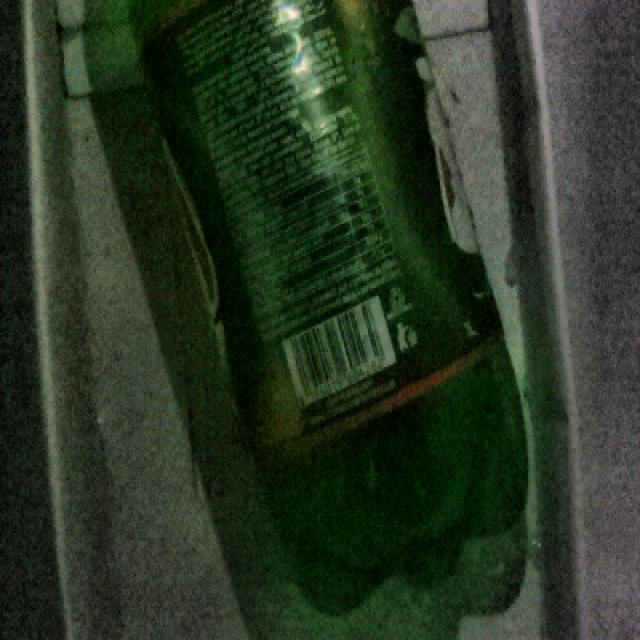plastic: (34, 0, 554, 640)
